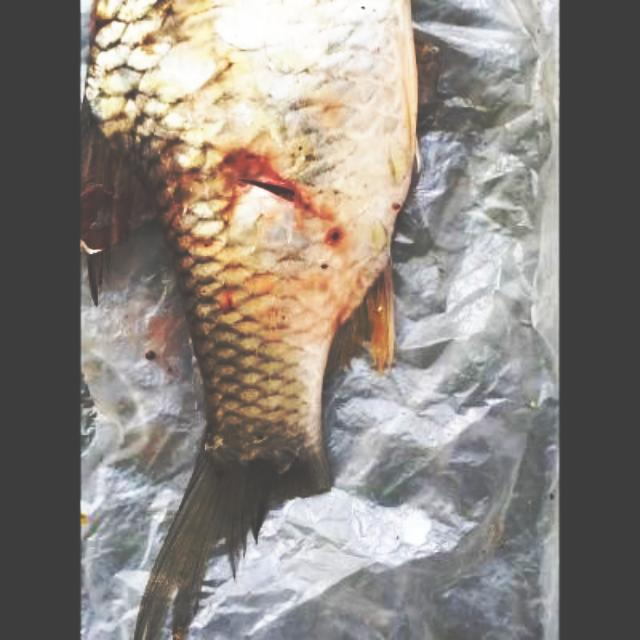Edwardsiella Ictaluri -Bacterial Red Disease-: (80, 0, 416, 638)
